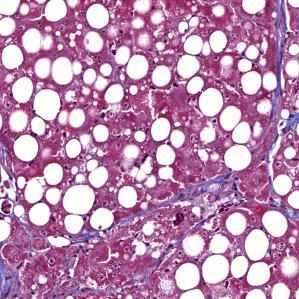fibrosis: (174, 172, 254, 211)
